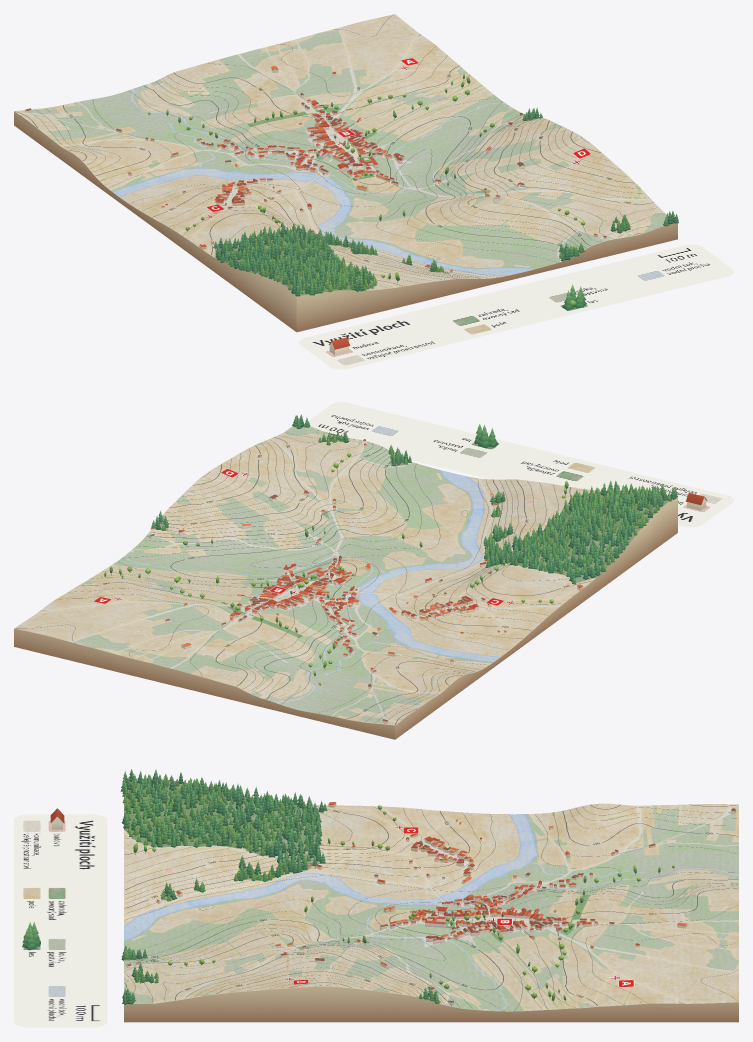
Rendered from Frymburk_sada3_otazka2.glb.
3 views of the same model, one above another, from view 1: azimuth 30°, elevation 25°; view 2: azimuth 150°, elevation 25°; view 3: azimuth 270°, elevation 25° (orthographic). The views are drawn at different scales.
Visible parts, largest first — view 1: DMR_SMO5, legenda_panel, stromy_SMO5, vrstevnice, budovy_SMO5, legenda_objekty; view 2: DMR_SMO5, legenda_panel, stromy_SMO5, vrstevnice, budovy_SMO5, legenda_objekty; view 3: DMR_SMO5, legenda_panel, stromy_SMO5, vrstevnice, budovy_SMO5, legenda_objekty.
Boxes of the visible parts, bbox=[...] form: DMR_SMO5: bbox=[14, 14, 677, 332]; legenda_panel: bbox=[299, 244, 733, 369]; stromy_SMO5: bbox=[147, 74, 678, 296]; vrstevnice: bbox=[15, 15, 661, 293]; budovy_SMO5: bbox=[25, 66, 607, 272]; legenda_objekty: bbox=[329, 284, 586, 354]; DMR_SMO5: bbox=[14, 425, 677, 739]; legenda_panel: bbox=[304, 402, 733, 527]; stromy_SMO5: bbox=[104, 414, 677, 685]; vrstevnice: bbox=[16, 430, 654, 724]; budovy_SMO5: bbox=[149, 439, 583, 723]; legenda_objekty: bbox=[474, 424, 707, 510]; DMR_SMO5: bbox=[124, 779, 738, 1022]; legenda_panel: bbox=[14, 814, 107, 1027]; stromy_SMO5: bbox=[120, 769, 674, 1004]; vrstevnice: bbox=[124, 781, 737, 1010]; budovy_SMO5: bbox=[126, 802, 735, 1005]; legenda_objekty: bbox=[22, 808, 64, 950].
Size of the model in its own units: 1490 by 187 by 2140.
Materials: 13 (7 with a texture image).
